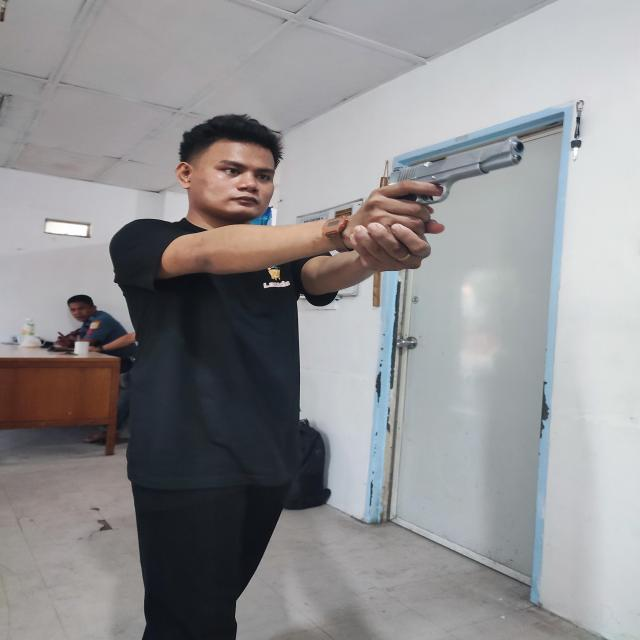pistol: (388, 137, 524, 206)
